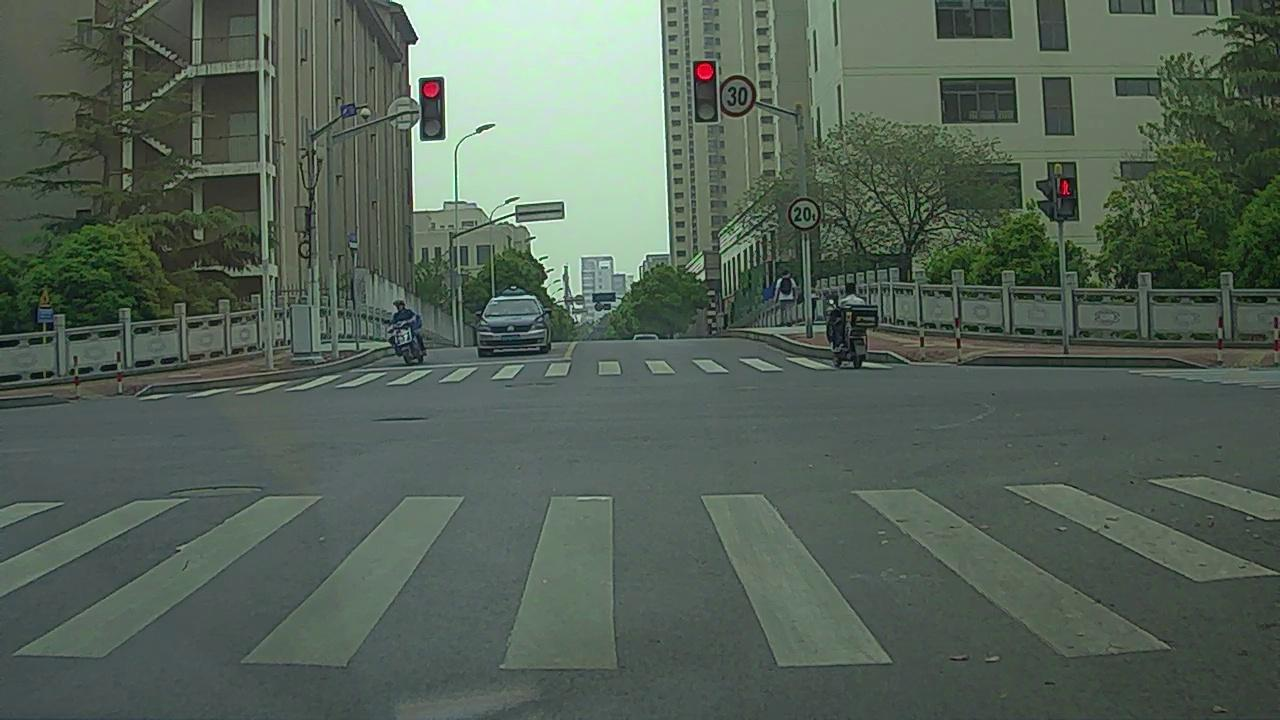traffic_light: (420, 79, 446, 142), (694, 60, 719, 125)
